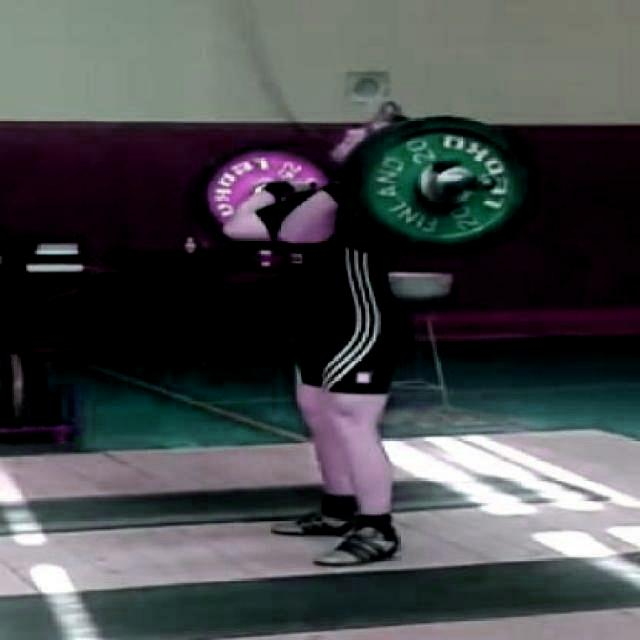barbell: (324, 108, 540, 261)
